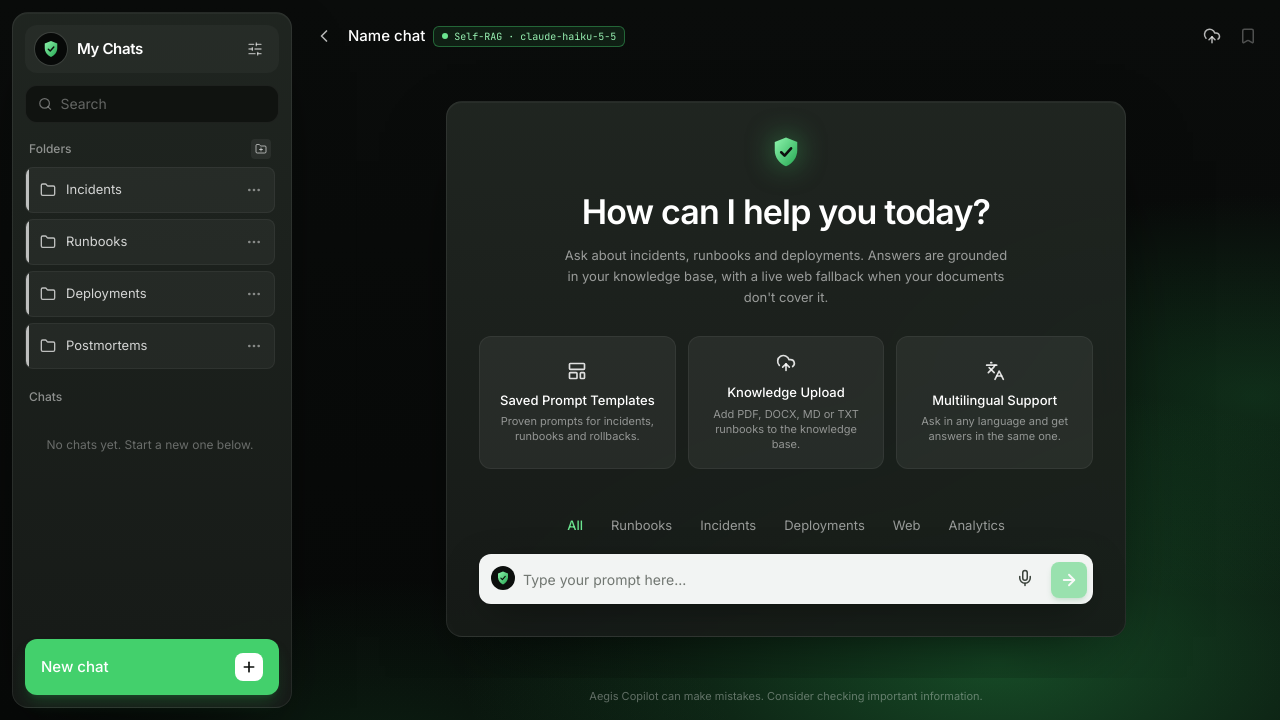
model badge › reflects the model that actually answered
Expected: the text "Self-RAG · claude-haiku-5-5" is shown, [433,26,625,46]
In the text box named "Message": (761, 580) [523,562,999,598], type "which model?"
Then press Enter
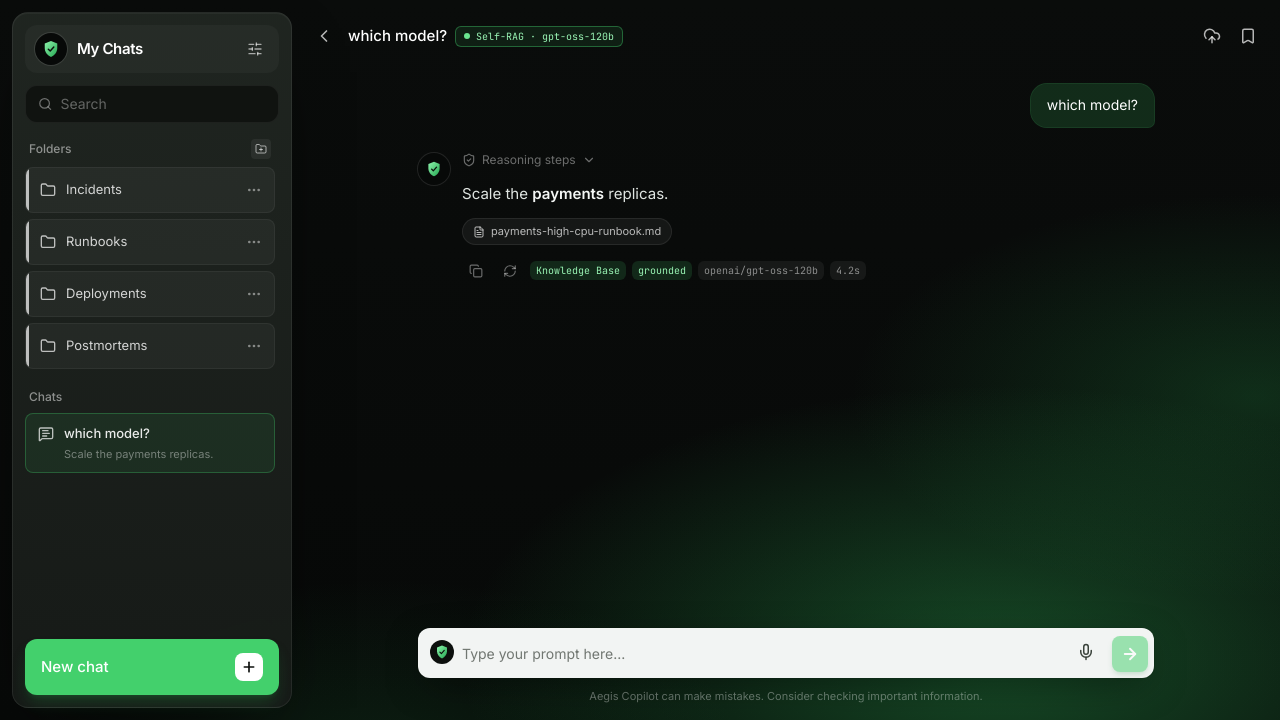
Now the text "Self-RAG · gpt-oss-120b" is shown, box [455,26,623,46]
